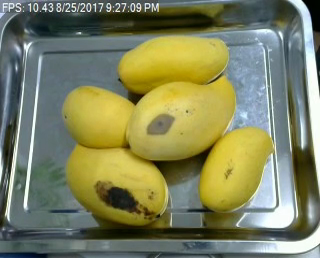Mango: (125, 76, 238, 158), (65, 143, 169, 224), (119, 35, 231, 93), (199, 127, 274, 210), (60, 84, 136, 149)
